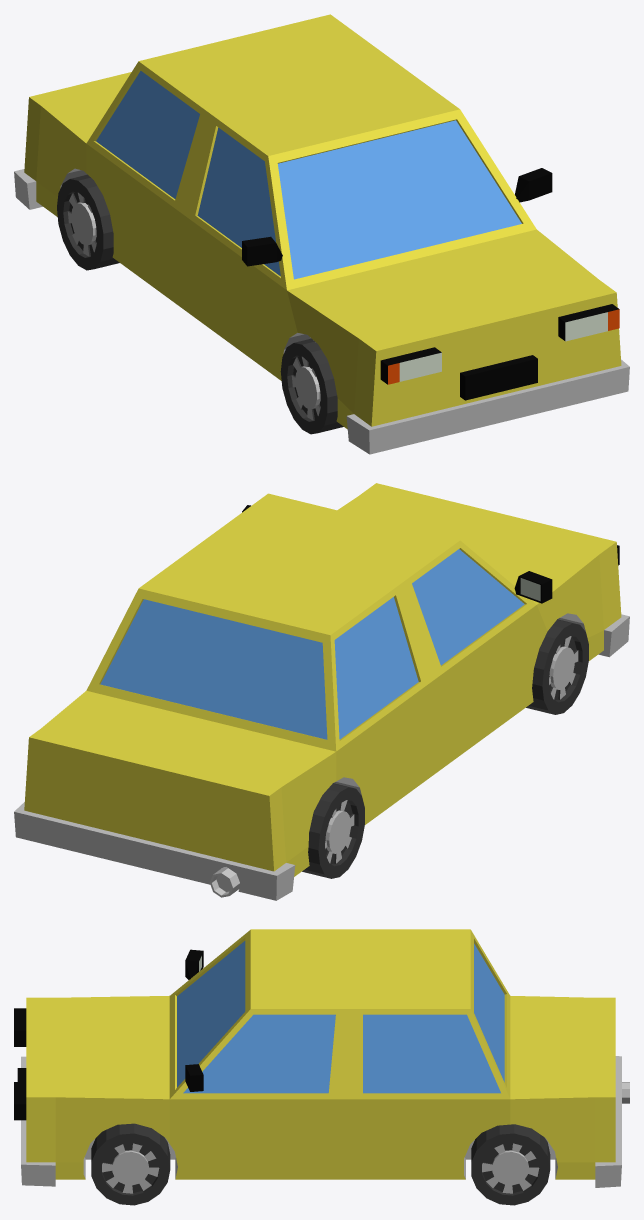
The model's file is car_a.glb.
The picture shows the model from 3 angles, top to bottom: view 1: azimuth 30°, elevation 25°; view 2: azimuth 150°, elevation 25°; view 3: azimuth 270°, elevation 25°; orthographic projection. The views are drawn at different scales.
Parts seen in each view (by area): view 1: Cube, Cylinder.006, Cylinder.002, Cube.001, Cube.004, Cube.002; view 2: Cube, Cylinder.002, Cylinder.006, Cube.002, Cylinder.003; view 3: Cube, Cylinder.001, Cylinder.002, Cube.001, Cube.002.
Part boxes in pixels (x1,y1,x2,y2): Cube: (14, 14, 629, 454); Cylinder.006: (280, 338, 343, 434); Cylinder.002: (57, 174, 119, 270); Cube.001: (380, 304, 619, 384); Cube.004: (460, 355, 537, 400); Cube.002: (242, 168, 552, 266); Cube: (14, 483, 629, 900); Cylinder.002: (302, 783, 364, 878); Cylinder.006: (526, 619, 588, 714); Cube.002: (242, 505, 552, 603); Cylinder.003: (209, 867, 240, 897); Cube: (21, 929, 621, 1187); Cylinder.001: (91, 1123, 170, 1205); Cylinder.002: (471, 1124, 550, 1205); Cube.001: (14, 1008, 26, 1120); Cube.002: (185, 949, 203, 1091).
Size of the model in its own units: 2.44 by 1.64 by 5.03.
